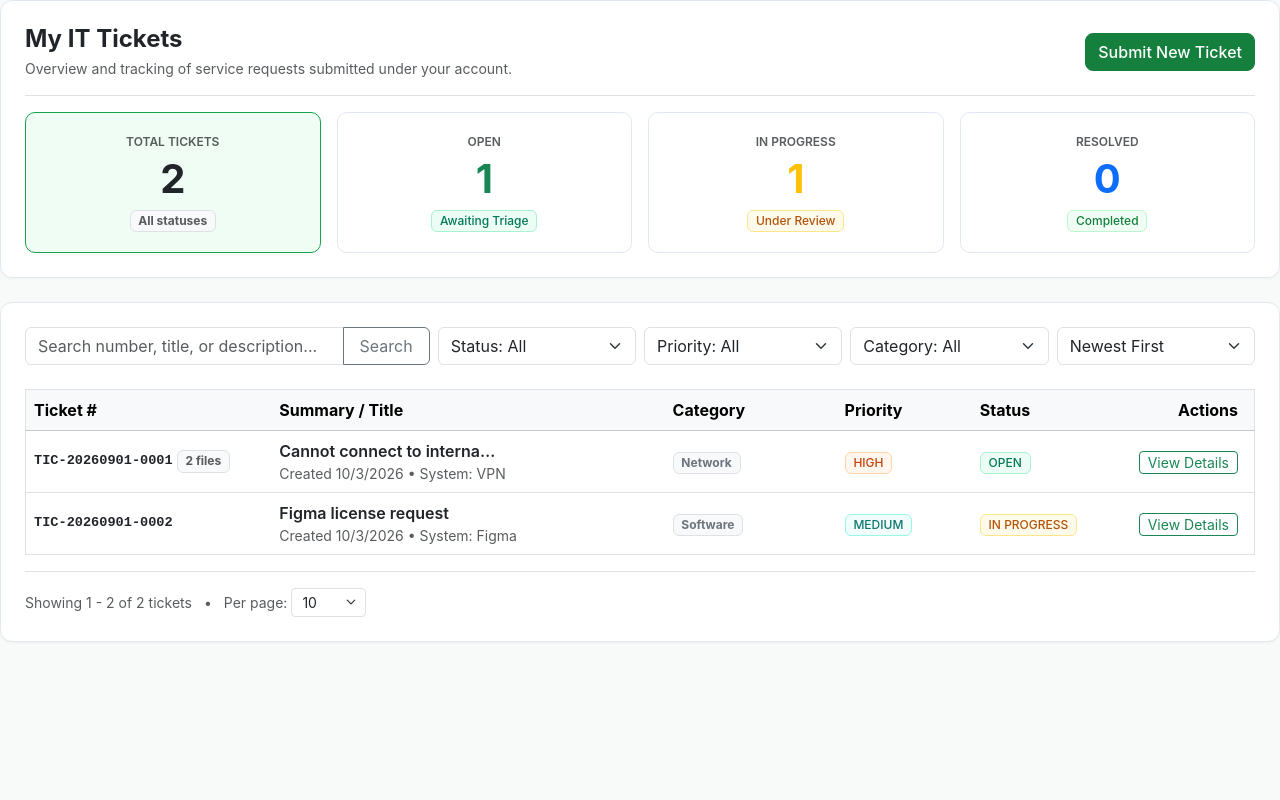
Test: Lab 2 — MyTicketsScreen Component › opens and closes the TicketDetailModal when viewing ticket details
Expected: the table with test id "tickets-table" is shown, top-left (25, 389), bottom-right (1255, 555)
# Click "View Details" button on row
Click the button with test id "view-ticket-btn-101" at (1188, 462), box top-left (1139, 451), bottom-right (1238, 474)
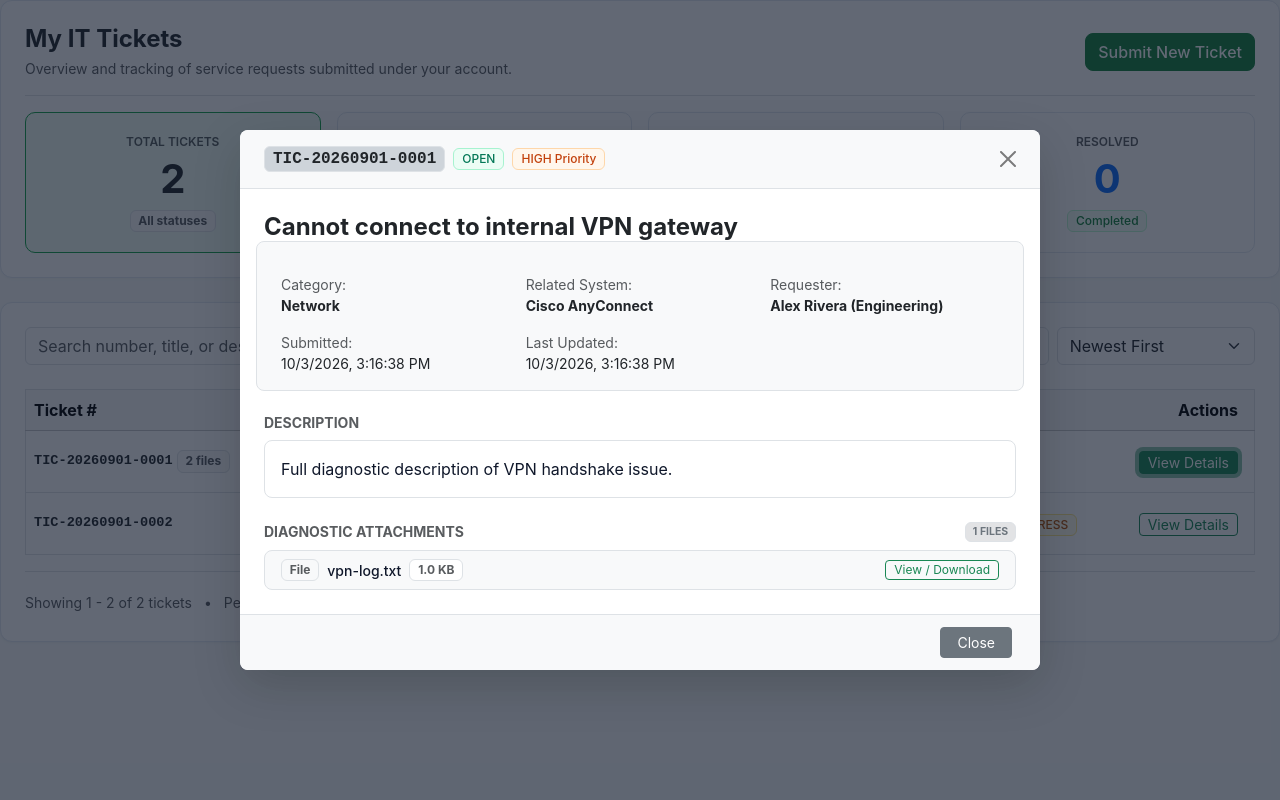
Now the dialog with test id "ticket-detail-modal" is shown
Now the text with test id "detail-ticket-number" reads "TIC-20260901-0001", box top-left (273, 150), bottom-right (436, 168)
Now the text with test id "detail-ticket-description" reads "Full diagnostic description of VPN handshake issue.", box top-left (281, 459), bottom-right (672, 479)
# Close modal
Click the button with test id "close-modal-btn" at (1008, 159), box top-left (992, 143), bottom-right (1024, 175)
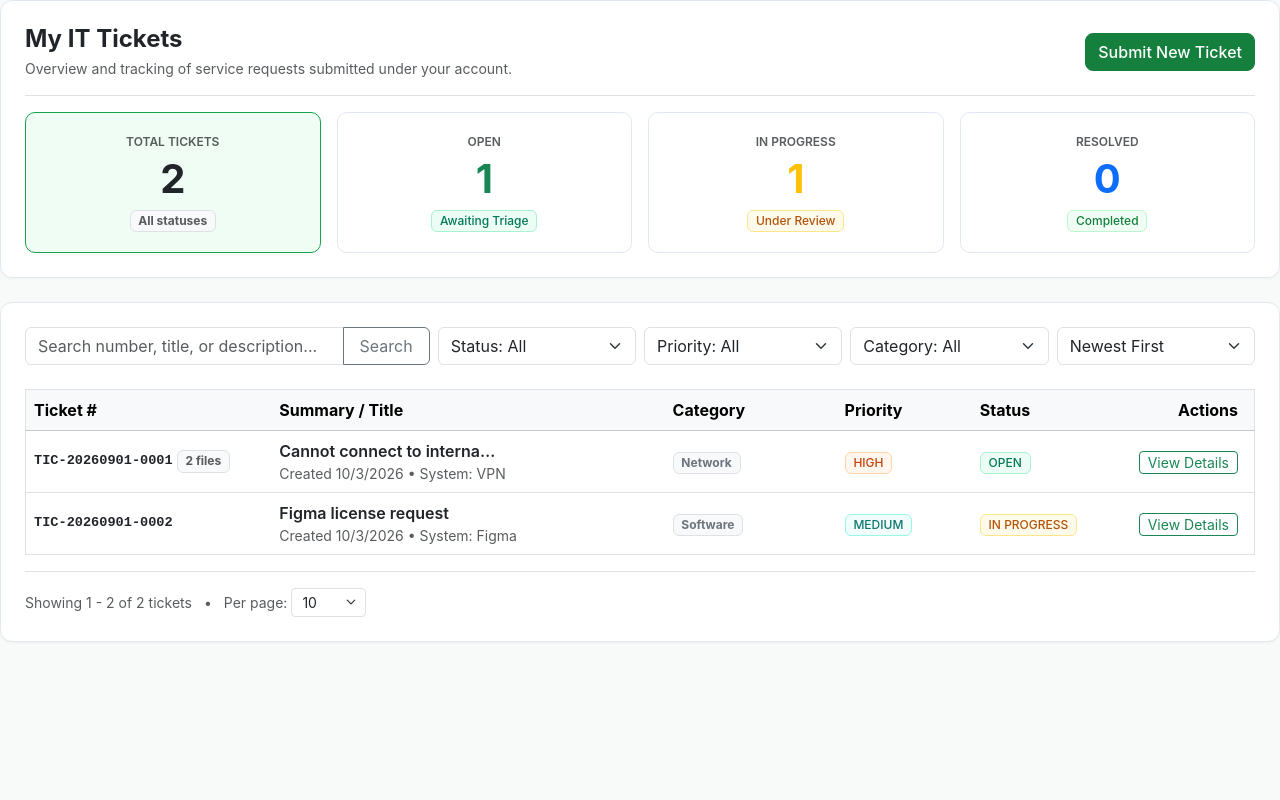
Now the dialog with test id "ticket-detail-modal" is gone
